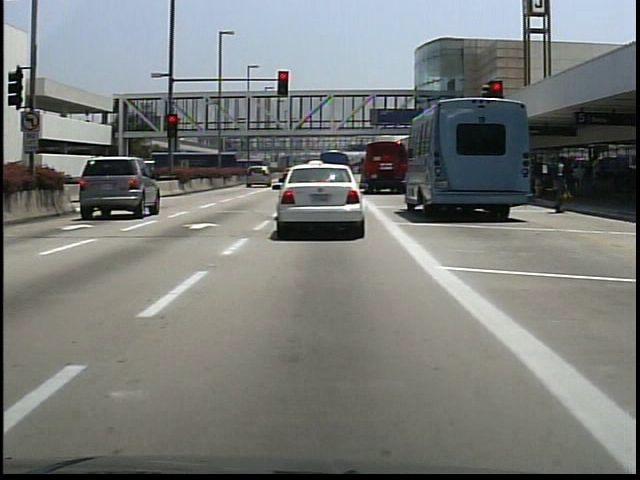person: (548, 155, 569, 216), (551, 156, 568, 203)
